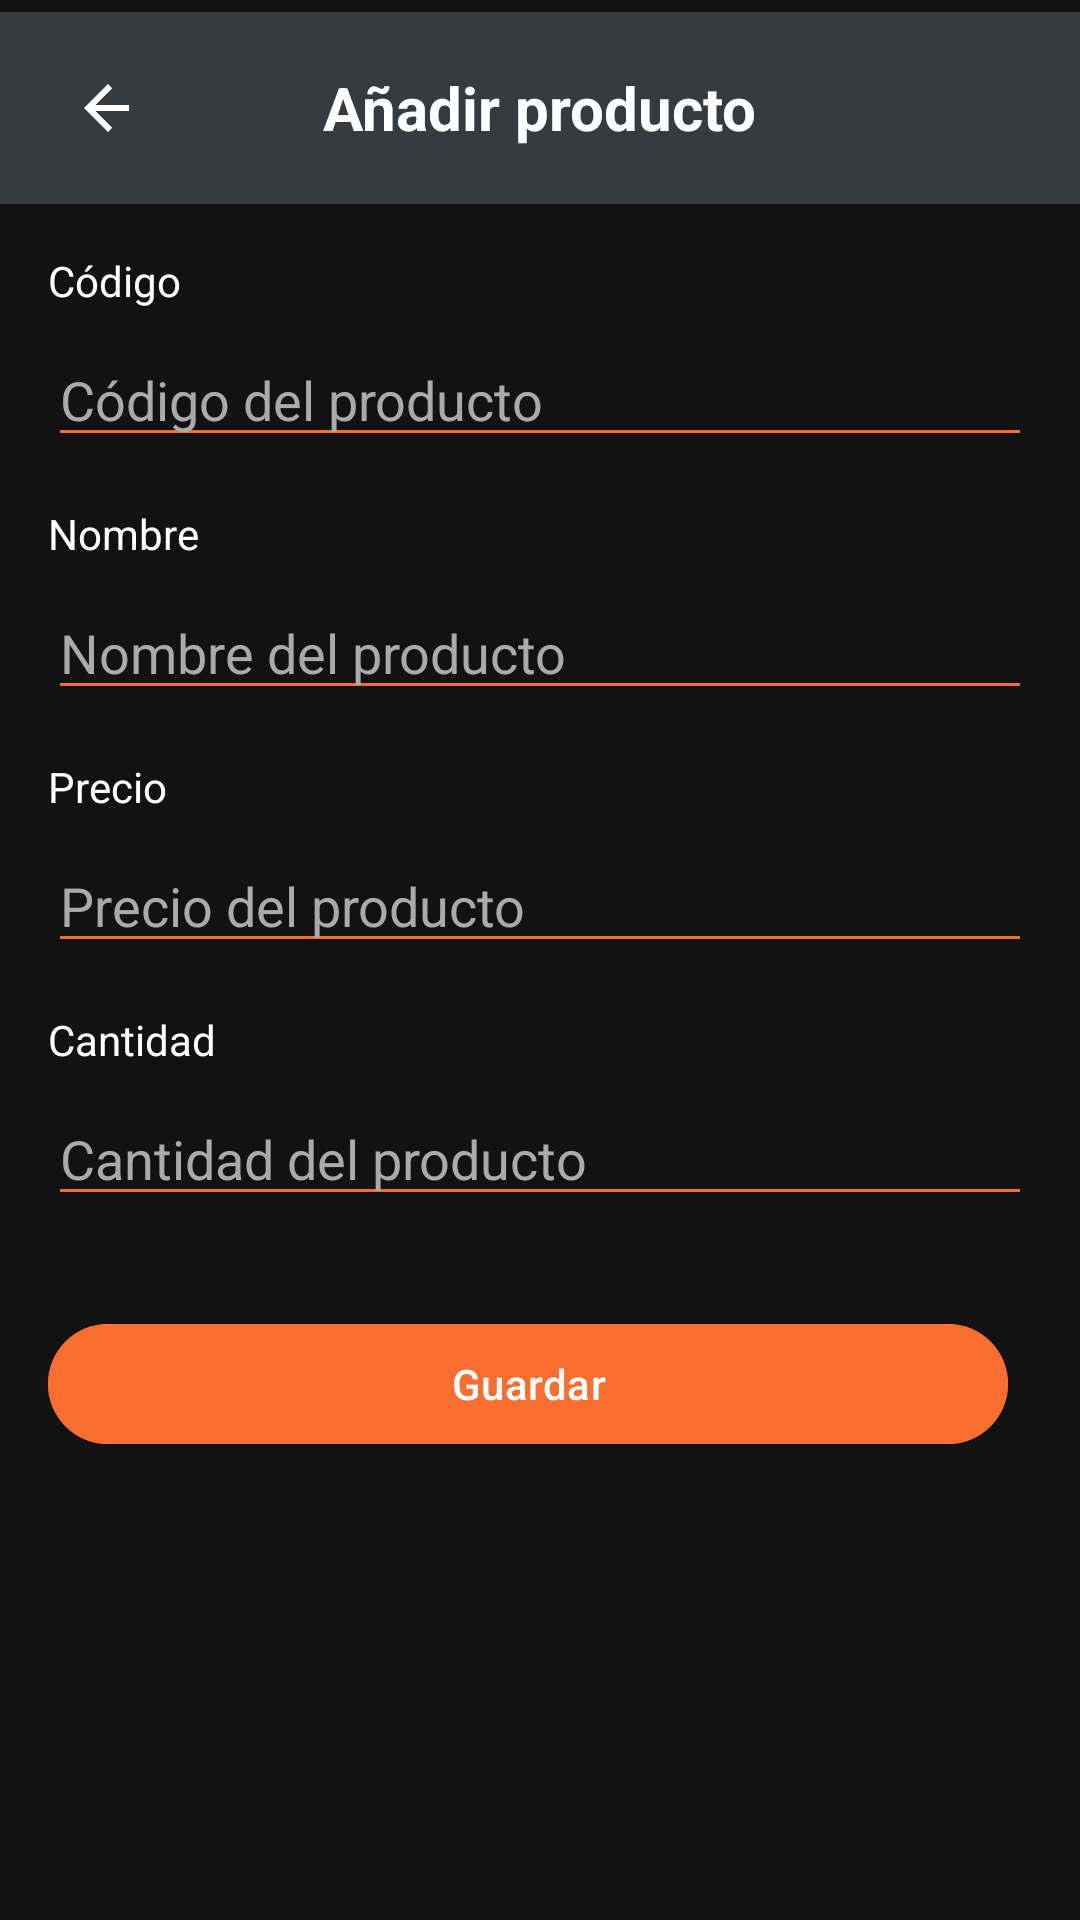

Icons on this 1080px×1920px Android screen, each with its box as (x1, y1, x2, y2):
Volver: (84, 84, 129, 132)
